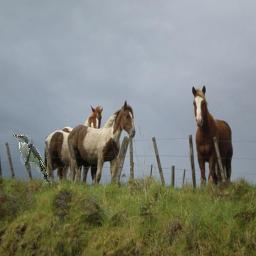Cuckoo: (13, 134, 52, 186)
